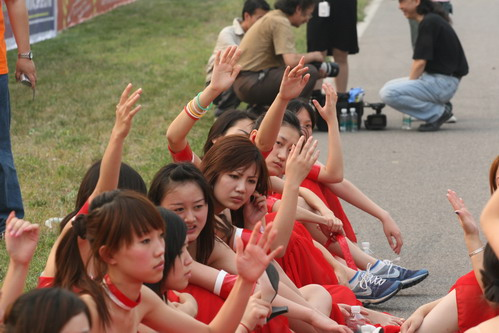handsup: (56, 182, 287, 332), (201, 133, 329, 314)
